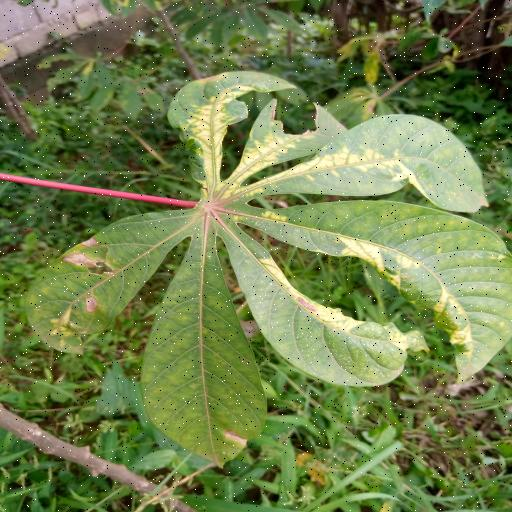Cassava_Mosaic: (21, 68, 512, 472)
